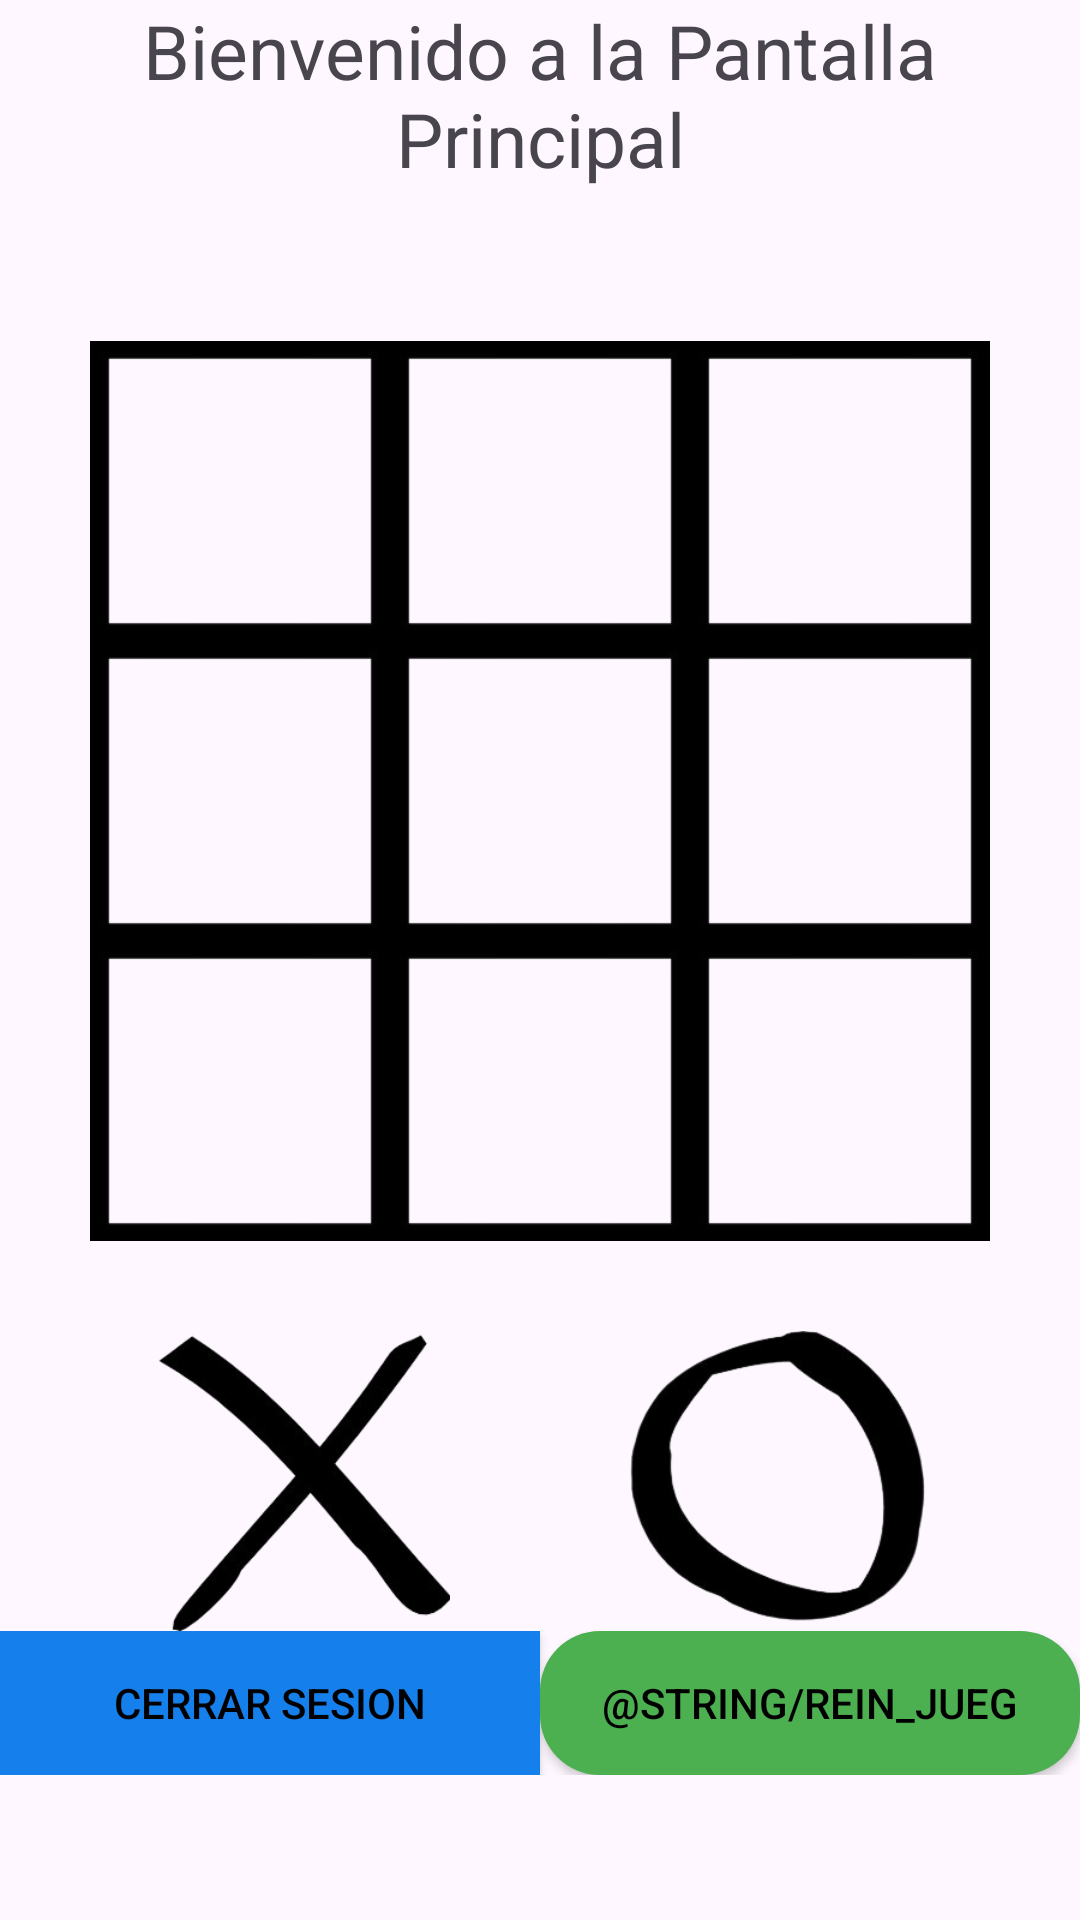

Point at icon controls on the screen. Image size 1080 × 1920, points as (x,y).
circulo: (778,1476)
equis: (304,1483)
